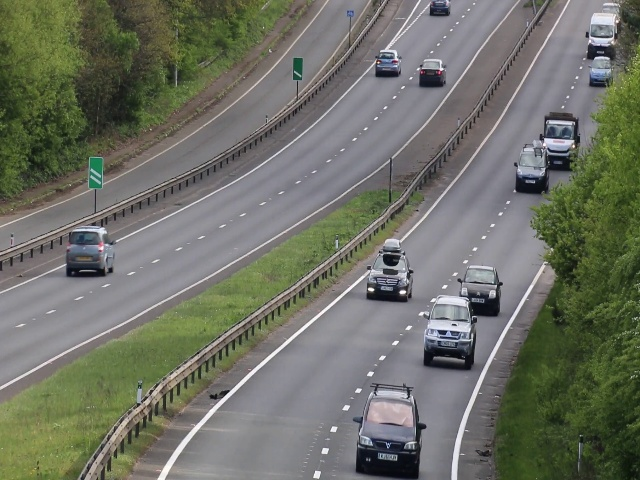car: (357, 390, 420, 477), (424, 293, 473, 367), (66, 226, 114, 276), (368, 253, 411, 304), (517, 146, 549, 195), (543, 117, 577, 156), (461, 265, 499, 294), (373, 49, 403, 78), (418, 57, 447, 87), (590, 55, 612, 86)
